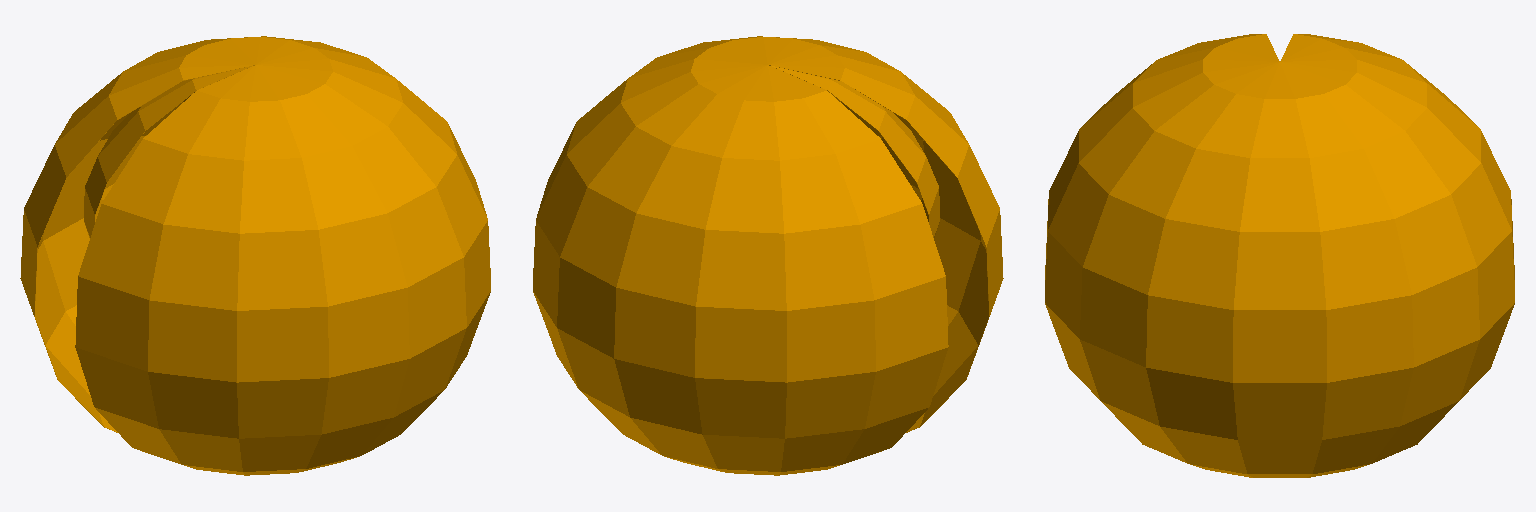
URDF robot description (lr_mate_200ic):
<?xml version="1.0" ?>
<robot name="lr_mate_200ic">

  <link name="root">
    <inertial>
      <origin xyz="0 0 0.3" rpy="0 0 0" />
      <mass value="15.0" /> <inertia ixx="0.5" ixy="0" ixz="0" iyy="0.5" iyz="0" izz="0.5" />
    </inertial>

    <collision>
      <origin xyz="0 0 0" rpy="0 0 0" />
      <geometry>
        <mesh filename="package://lr_mate_200ic/meshes/base.stl" scale="1 1 1" />
      </geometry>
    </collision>

    <visual>
        <origin xyz="0.075 9.32387e-17 0.63" rpy="0 -0 0" />
        <geometry>
            <mesh filename="package://lr_mate_200ic/meshes/axis3.stl" scale="1 1 1" />
        </geometry>
        <material name="grey">
            <color rgba="0.498 0.498 0.498 1" />
        </material>
    </visual>

    <visual>
        <origin xyz="0.075 1.1391e-16 0.33" rpy="0 -0 0" />
        <geometry>
            <mesh filename="package://lr_mate_200ic/meshes/axis2.stl" scale="1 1 1" />
        </geometry>
        <material name="blue_light">
            <color rgba="0.615 0.811 0.929 1" />
        </material>
    </visual>

    <visual>
        <origin xyz="0 0 0.33" rpy="0 -0 0" />
        <geometry>
            <mesh filename="package://lr_mate_200ic/meshes/axis1.stl" scale="1 1 1" />
        </geometry>
        <material name="white_blue">
            <color rgba="0.768 0.886 0.952 1" />
        </material>
    </visual>

    <visual>
        <origin xyz="0 0 0" rpy="1.5708 0 0" />
        <geometry>
            <mesh filename="package://lr_mate_200ic/meshes/envelope.stl" scale="1 1 1" />
        </geometry>
    </visual>

    <visual>
        <origin xyz="0.395 6.245e-17 0.705" rpy="0 -0 0" />
        <geometry>
            <mesh filename="package://lr_mate_200ic/meshes/axis4.stl" scale="1 1 1" />
        </geometry>
        <material name="orange">
            <color rgba="0.98 0.713 0.003 1" />
        </material>
    </visual>

    <visual>
        <origin xyz="0 0 0" rpy="0 -0 0" />
        <geometry>
            <mesh filename="package://lr_mate_200ic/meshes/base.stl" scale="1 1 1" />
        </geometry>
    </visual>

    <visual>
        <origin xyz="0.475 3.46945e-18 0.705" rpy="0 -1.5708 3.14159" />
        <geometry>
            <mesh filename="package://lr_mate_200ic/meshes/axis6.stl" scale="1 1 1" />
        </geometry>
    </visual>

    <visual>
        <origin xyz="0.395 -4.85723e-17 0.705" rpy="0 -0 0" />
        <geometry>
            <mesh filename="package://lr_mate_200ic/meshes/axis5.stl" scale="1 1 1" />
        </geometry>
    </visual>
  </link>

  <gazebo reference="root">
    <static>true</static>
  </gazebo>

</robot>

--- Facts derived from the render (not from the file) ---
3 views of the same robot in one strip: view 1: azimuth 30°, elevation 25°; view 2: azimuth 150°, elevation 25°; view 3: azimuth 270°, elevation 25° (orthographic).
Robot: lr_mate_200ic — 1 links, 0 joints (none); root link root; default pose: every joint at zero.
Links seen in each view (by area): view 1: root; view 2: root; view 3: root.
Link boxes in pixels (box(x1,y1,x2,y2)): root: box(20, 36, 490, 475); root: box(533, 36, 1003, 475); root: box(1045, 34, 1514, 477).
Size in the robot's own frame: 1.37 by 1.37 by 1.18 metres.
Meshes: 8 distinct files referenced, 8 mesh visuals loaded (8 ASCII STL).
